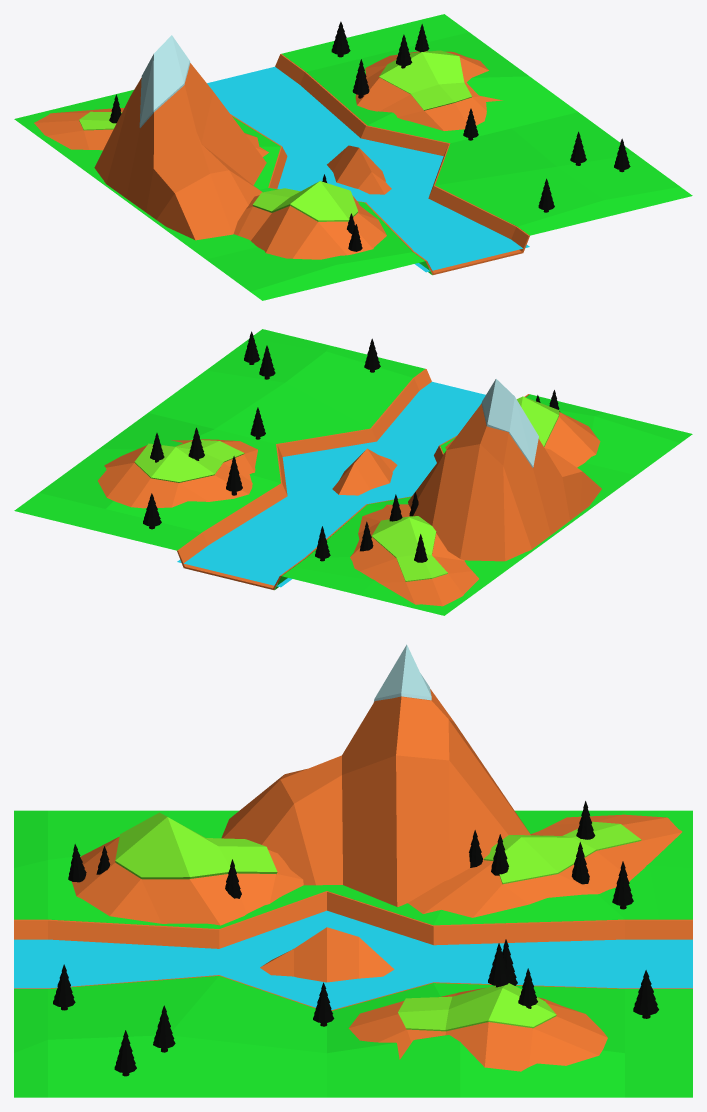
File: Environment_game_Section_04.FBX
3 renders of one model, top to bottom at view 1: azimuth 30°, elevation 25°; view 2: azimuth 150°, elevation 25°; view 3: azimuth 270°, elevation 25°, orthographic. The views are drawn at different scales.
Parts seen in each view (by area): view 1: ground, water, Plane004, Ground water, Plane006, Plane012, Plane013, Plane005, Plane008, Plane002, Plane007; view 2: ground, water, Plane004, Ground water, Plane012, Plane002, Plane007, Plane013, Plane008, Plane006, Plane005; view 3: ground, Plane004, water, Ground water, Plane002, Plane006, Plane012, Plane005, Plane013, Plane007, Plane008, Cylinder014.
Boxes of the visible parts, x1=… form: ground: x1=14, y1=14, x2=692, y2=300; water: x1=207, y1=66, x2=529, y2=272; Plane004: x1=94, y1=63, x2=266, y2=240; Ground water: x1=230, y1=54, x2=529, y2=274; Plane006: x1=233, y1=195, x2=386, y2=259; Plane012: x1=355, y1=51, x2=502, y2=130; Plane013: x1=379, y1=50, x2=471, y2=110; Plane005: x1=252, y1=181, x2=358, y2=221; Plane008: x1=139, y1=35, x2=190, y2=127; Plane002: x1=34, y1=108, x2=268, y2=156; Plane007: x1=79, y1=111, x2=121, y2=130; ground: x1=14, y1=329, x2=692, y2=615; water: x1=177, y1=381, x2=485, y2=587; Plane004: x1=408, y1=403, x2=601, y2=561; Ground water: x1=177, y1=369, x2=529, y2=589; Plane012: x1=98, y1=439, x2=257, y2=508; Plane002: x1=350, y1=504, x2=478, y2=606; Plane007: x1=371, y1=516, x2=447, y2=581; Plane013: x1=134, y1=440, x2=244, y2=482; Plane008: x1=481, y1=379, x2=538, y2=467; Plane006: x1=445, y1=412, x2=600, y2=467; Plane005: x1=517, y1=396, x2=559, y2=446; ground: x1=14, y1=810, x2=692, y2=1097; Plane004: x1=221, y1=689, x2=530, y2=906; water: x1=14, y1=910, x2=692, y2=1010; Ground water: x1=14, y1=891, x2=692, y2=1010; Plane002: x1=408, y1=814, x2=682, y2=917; Plane006: x1=71, y1=836, x2=303, y2=925; Plane012: x1=348, y1=988, x2=607, y2=1071; Plane005: x1=115, y1=812, x2=277, y2=879; Plane013: x1=398, y1=983, x2=556, y2=1031; Plane007: x1=483, y1=821, x2=641, y2=884; Plane008: x1=373, y1=644, x2=431, y2=702; Cylinder014: x1=633, y1=970, x2=658, y2=1018.
Size of the model in its own units: 50 by 18.17 by 50.
